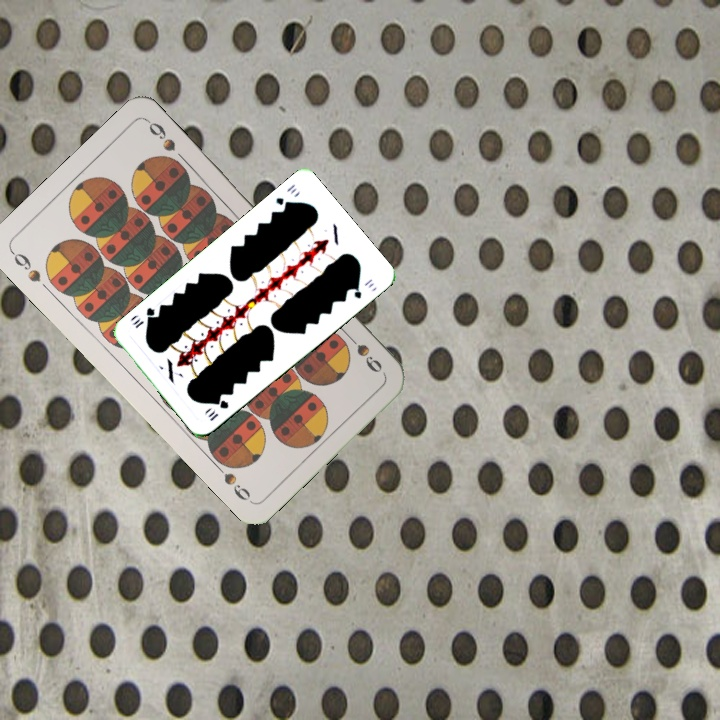G10: (272, 180, 300, 211), (203, 396, 231, 424)
S9: (341, 328, 385, 376), (6, 246, 44, 285)
